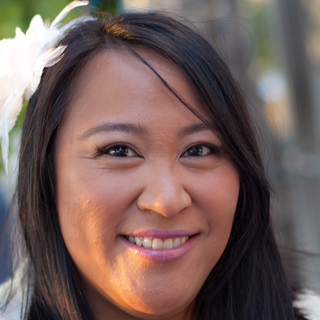eye: (92, 139, 143, 165), (177, 139, 224, 164)
